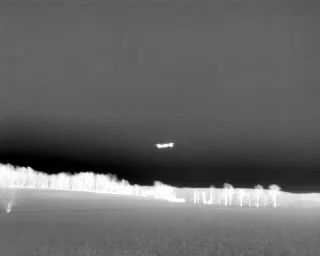DRONE: (151, 137, 179, 154)
